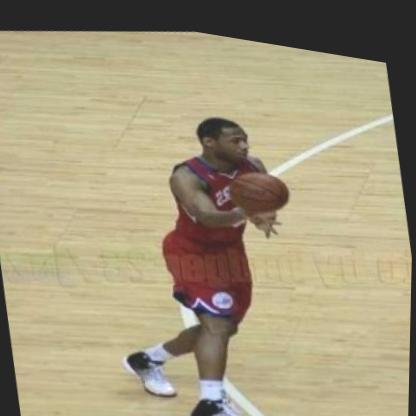basketball: (232, 155, 291, 210)
